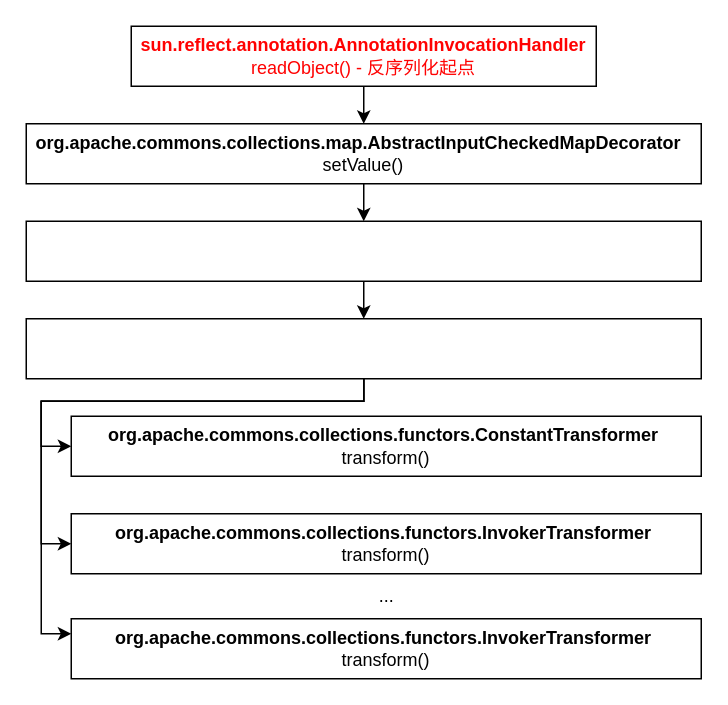
Image size: 728x705. Some labels were removed from this diagram. Here are the shapes that lost their labels. From the top down, the centre of each, then its label:
At point (363, 250): "org.apache.commons.collections.map.TransformedMap checkSetValue()".
At point (363, 348): "org.apache.commons.collections.functors.ChainedTransformer transform()".
